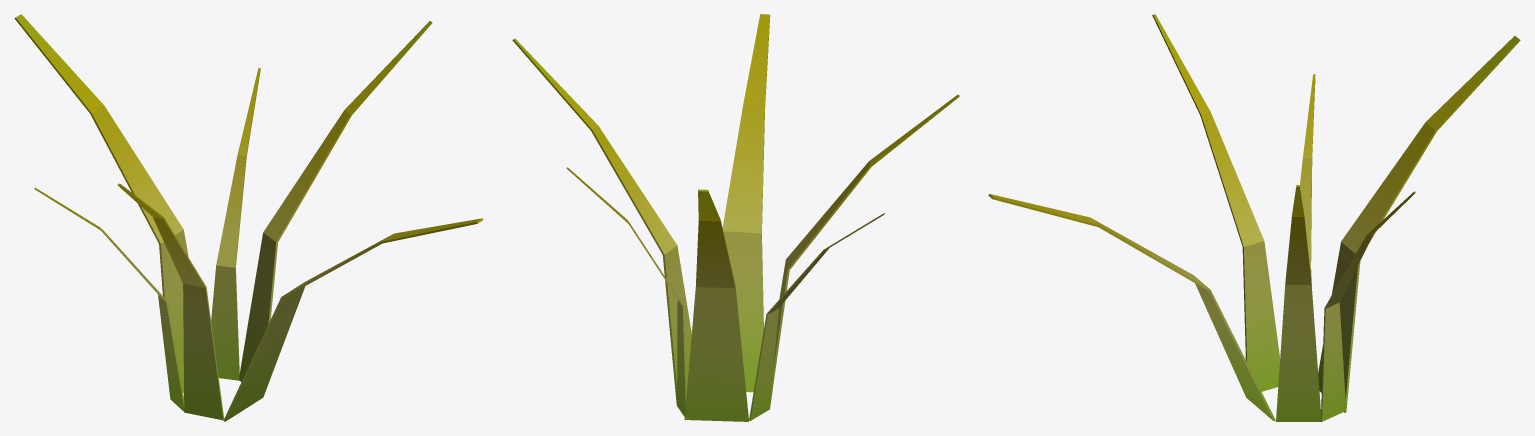
File: Forest_Plant_002.FBX
The picture shows the model from 3 angles, left to right: view 1: azimuth 30°, elevation 25°; view 2: azimuth 150°, elevation 25°; view 3: azimuth 270°, elevation 25°; orthographic projection. The views are drawn at different scales.
Parts seen in each view (by area): view 1: Forest_Plant_002; view 2: Forest_Plant_002; view 3: Forest_Plant_002.
Boxes of the visible parts, x1=… form: Forest_Plant_002: x1=14, y1=14, x2=483, y2=421; Forest_Plant_002: x1=512, y1=14, x2=959, y2=421; Forest_Plant_002: x1=988, y1=14, x2=1520, y2=421.
Size of the model in its own units: 186 by 149 by 220.
Materials: 1 (1 with a texture image).
